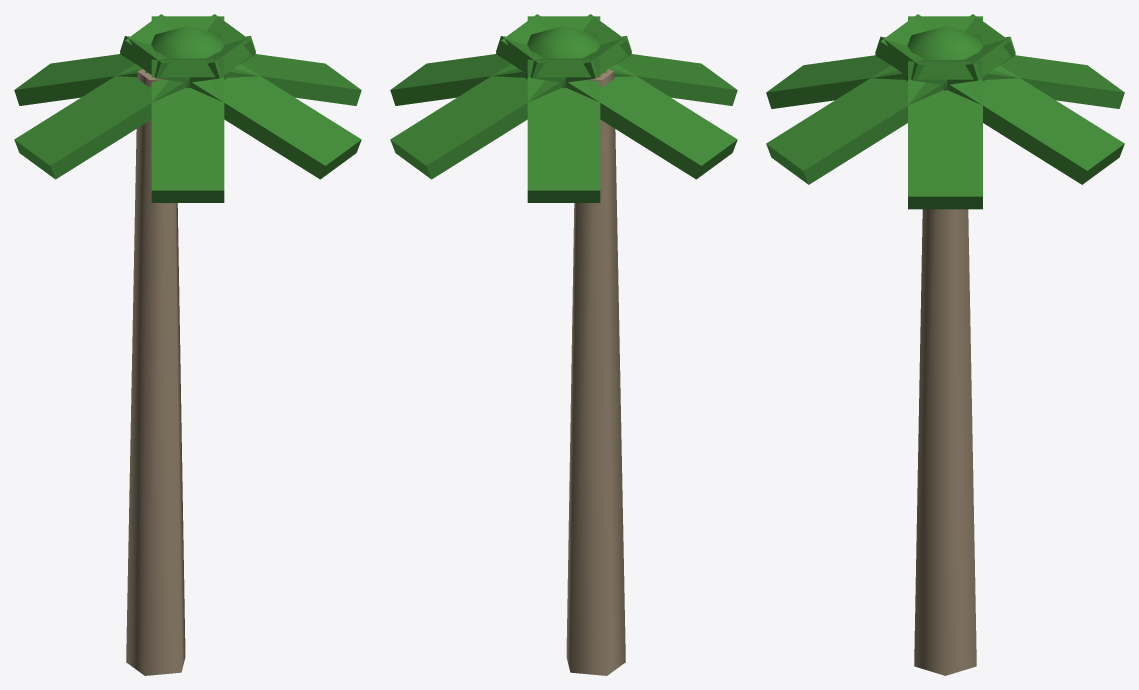
Rendered from tree_coconut.glb.
3 renders of one model, left to right at view 1: azimuth 30°, elevation 25°; view 2: azimuth 150°, elevation 25°; view 3: azimuth 270°, elevation 25°, orthographic. The views are drawn at different scales.
Parts seen in each view (by area): view 1: tree_coconut; view 2: tree_coconut; view 3: tree_coconut.
Part boxes in pixels (x1,y1,x2,y2): tree_coconut: (14, 14, 361, 675); tree_coconut: (390, 14, 737, 675); tree_coconut: (766, 14, 1124, 675).
Bounding box in the file's own units: 0.2479 × 0.48 × 0.2397.
